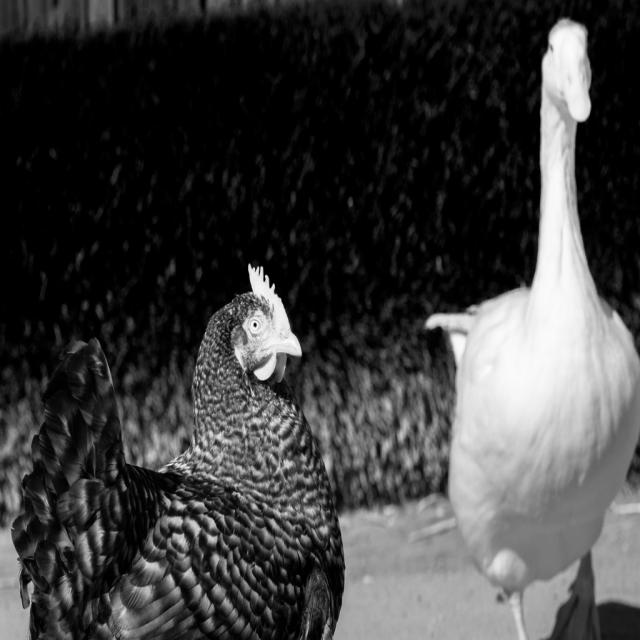Chicken: (420, 15, 640, 640), (5, 262, 344, 640)
